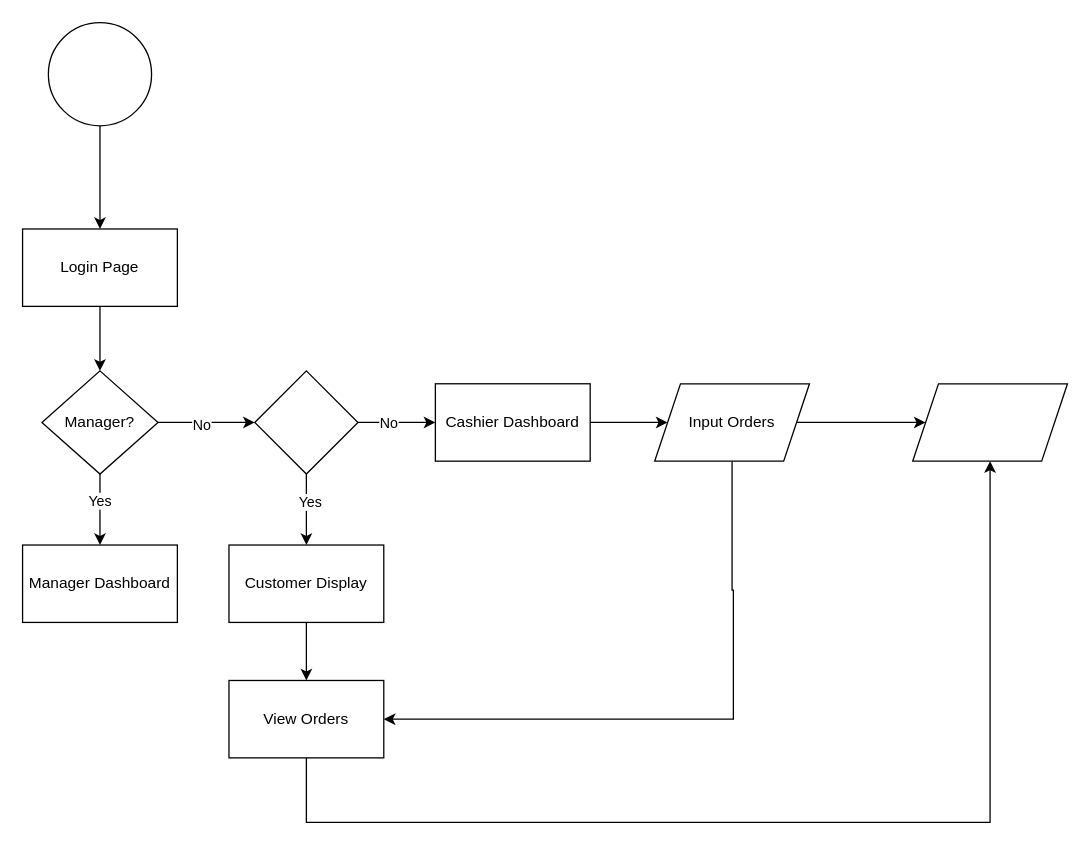
The diagram is 1090 pixels wide and 855 high, and some of its shapes have lost their labels. Here are the shapes that lost their labels. From the top down, the centre of each, then its label:
point 99,73: START
point 305,422: Customer?
point 989,421: Reciept
